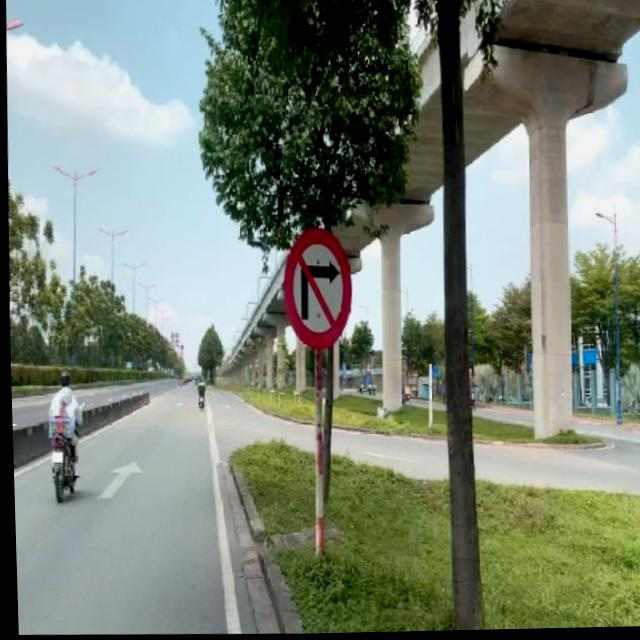Cam re phai: (278, 226, 353, 354)
